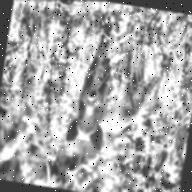boar: (60, 26, 164, 169)
